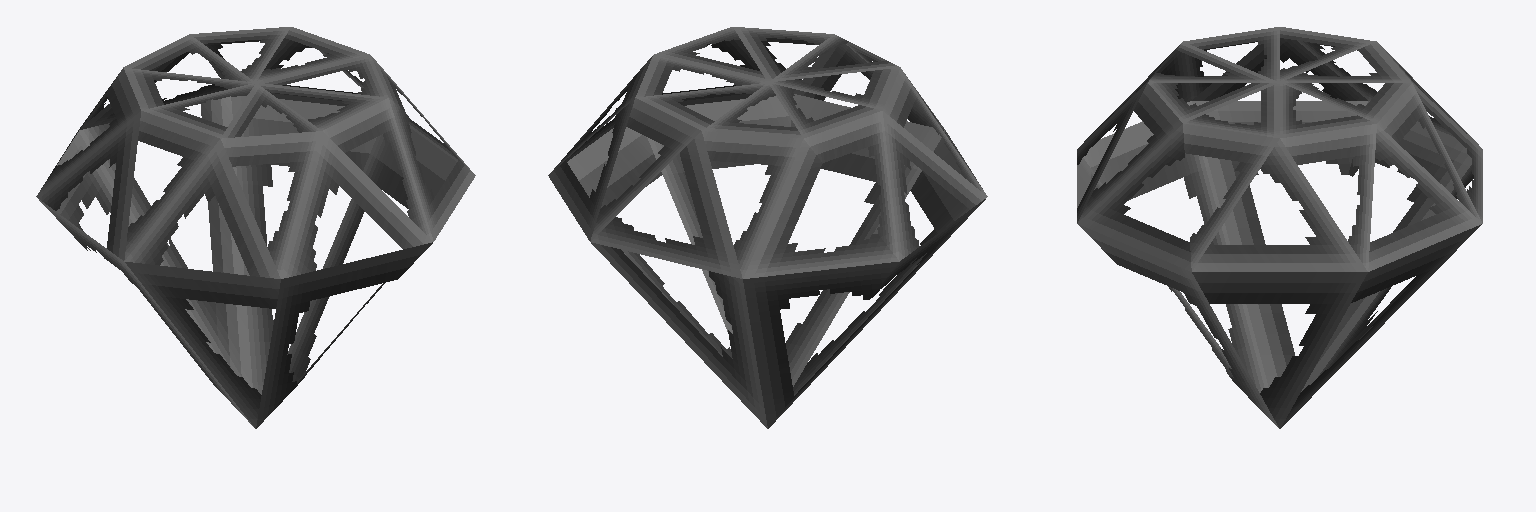
The picture shows the model from 3 angles: view 1: azimuth 30°, elevation 25°; view 2: azimuth 150°, elevation 25°; view 3: azimuth 270°, elevation 25°; orthographic projection.
Visible parts, largest first — view 1: Gem; view 2: Gem; view 3: Gem.
Part boxes in pixels (bbox=[...]): Gem: bbox=[36, 27, 475, 428]; Gem: bbox=[548, 27, 987, 428]; Gem: bbox=[1077, 27, 1482, 428].
Size of the model in its own units: 21.21 by 20 by 21.21.
1 materials, 1 textured.